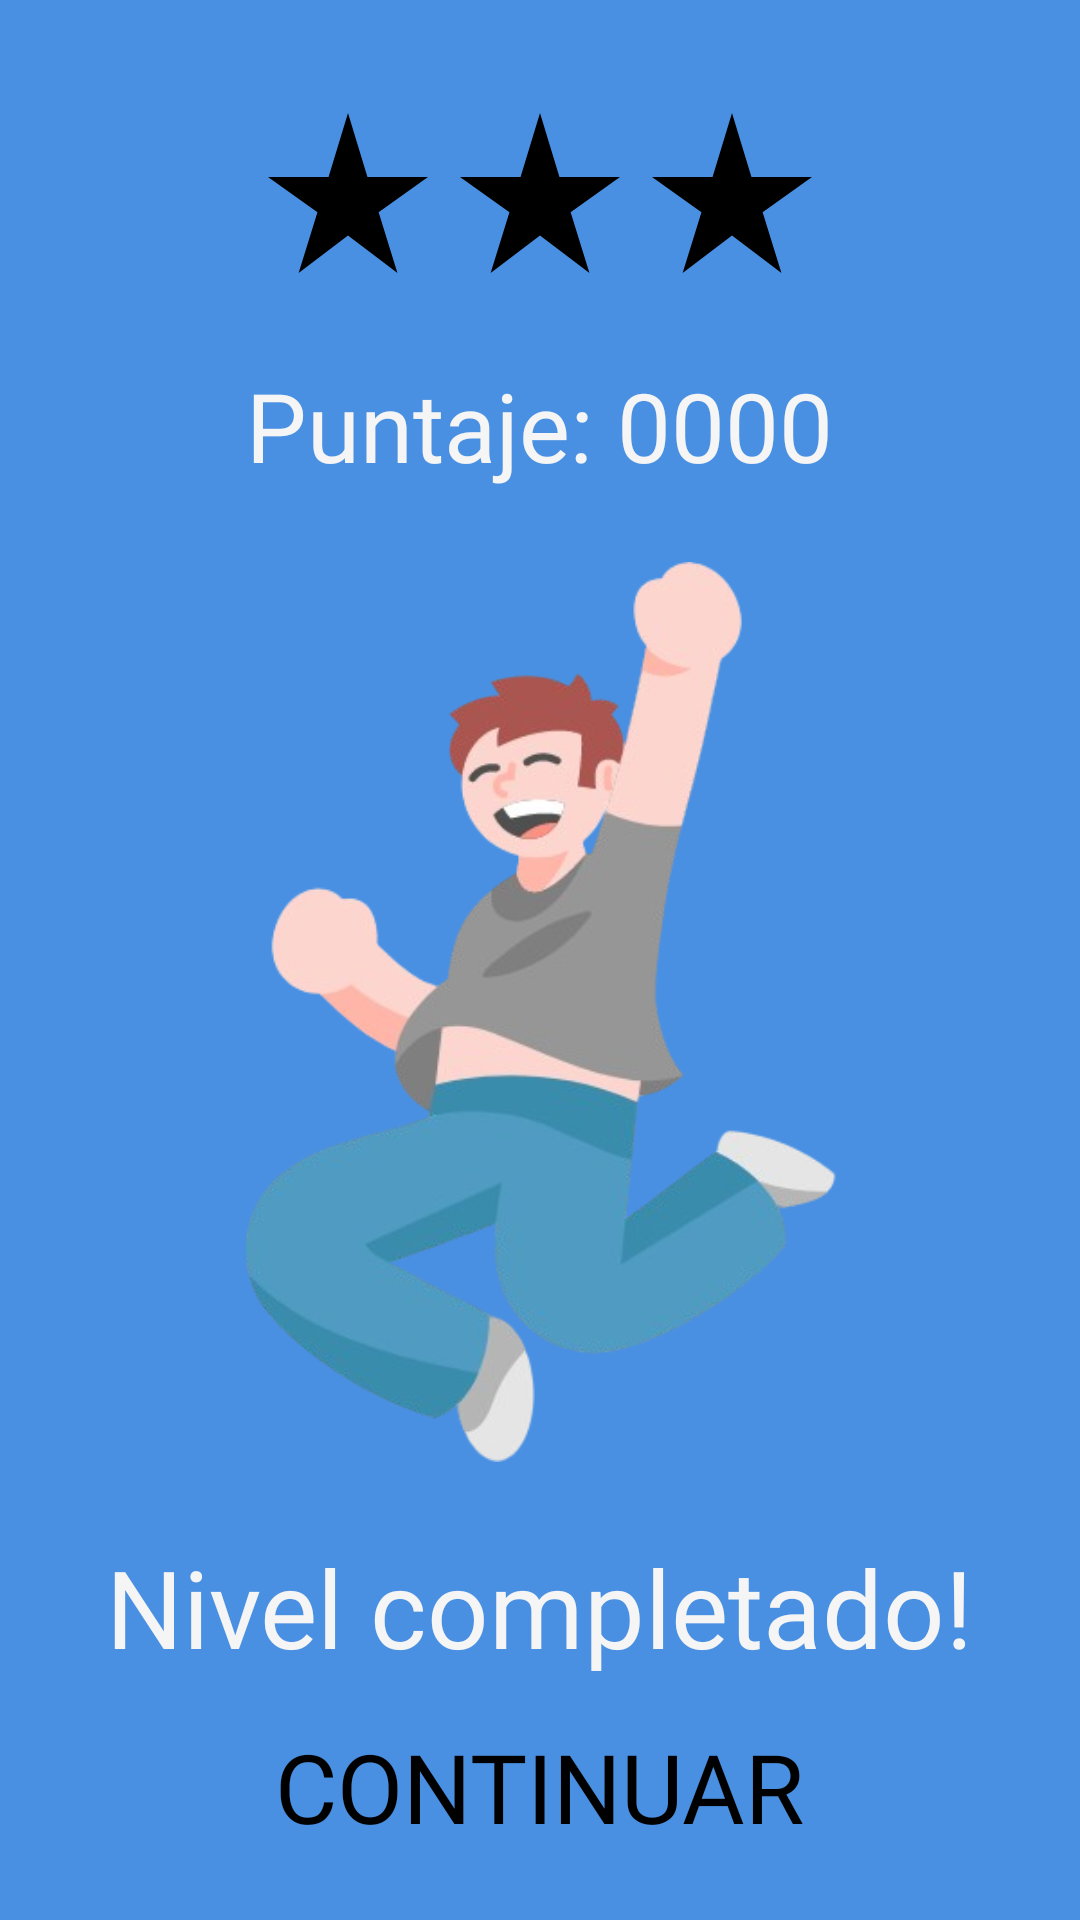

Icon click points for this 1080×1920 phone screenshot, format point (x, y):
star rate: point (348, 193), point (540, 193), point (732, 193)
